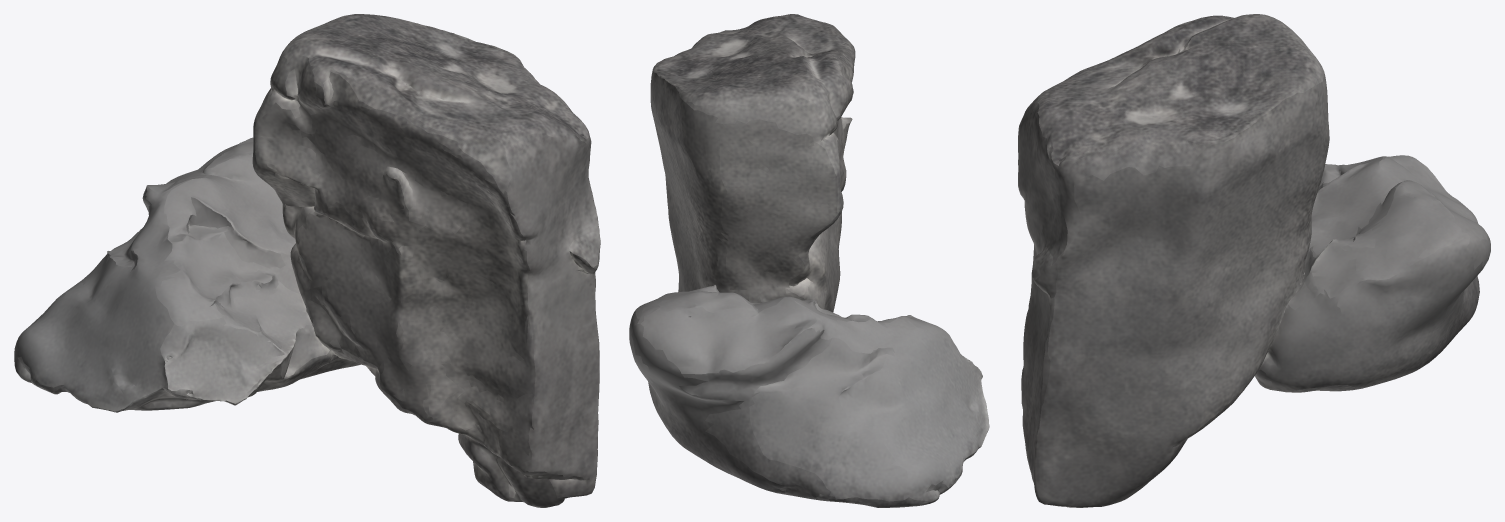
3 renders of one model, left to right at view 1: azimuth 30°, elevation 25°; view 2: azimuth 150°, elevation 25°; view 3: azimuth 270°, elevation 25°, orthographic. The views are drawn at different scales.
Visible parts, largest first — view 1: world; view 2: world; view 3: world.
Part boxes in pixels (x1,y1,x2,y2): world: [14, 14, 600, 507]; world: [629, 14, 989, 507]; world: [1018, 14, 1490, 507].
Size of the model in its own units: 1.49 by 1.5 by 1.53.
1 material, 1 textured.
